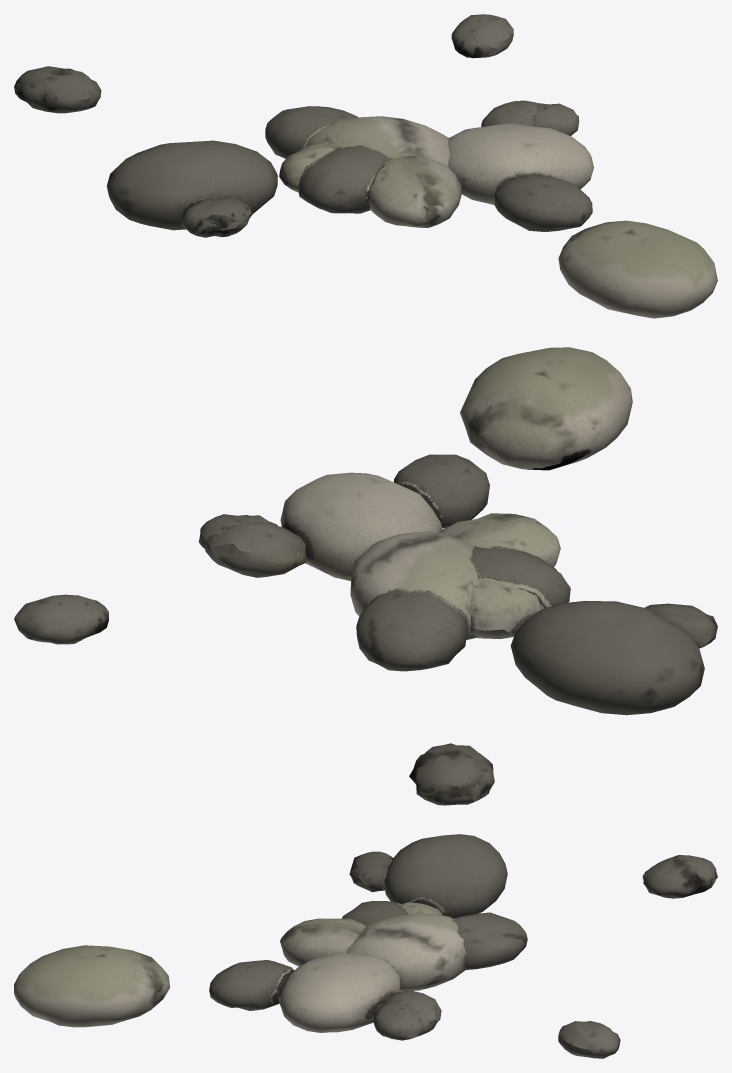
The model's file is costa_seixos.glb.
3 views of the same model, one above another, from view 1: azimuth 30°, elevation 25°; view 2: azimuth 150°, elevation 25°; view 3: azimuth 270°, elevation 25° (orthographic). The views are drawn at different scales.
Parts seen in each view (by area): view 1: costa_seixos; view 2: costa_seixos; view 3: costa_seixos.
Boxes of the visible parts, left/top/right/bottom form: costa_seixos: left=14, top=14, right=717, bottom=318; costa_seixos: left=14, top=347, right=717, bottom=805; costa_seixos: left=14, top=834, right=717, bottom=1058.
Bounding box in the file's own units: 1.13 × 0.1584 × 1.62.
1 material, 1 textured.
